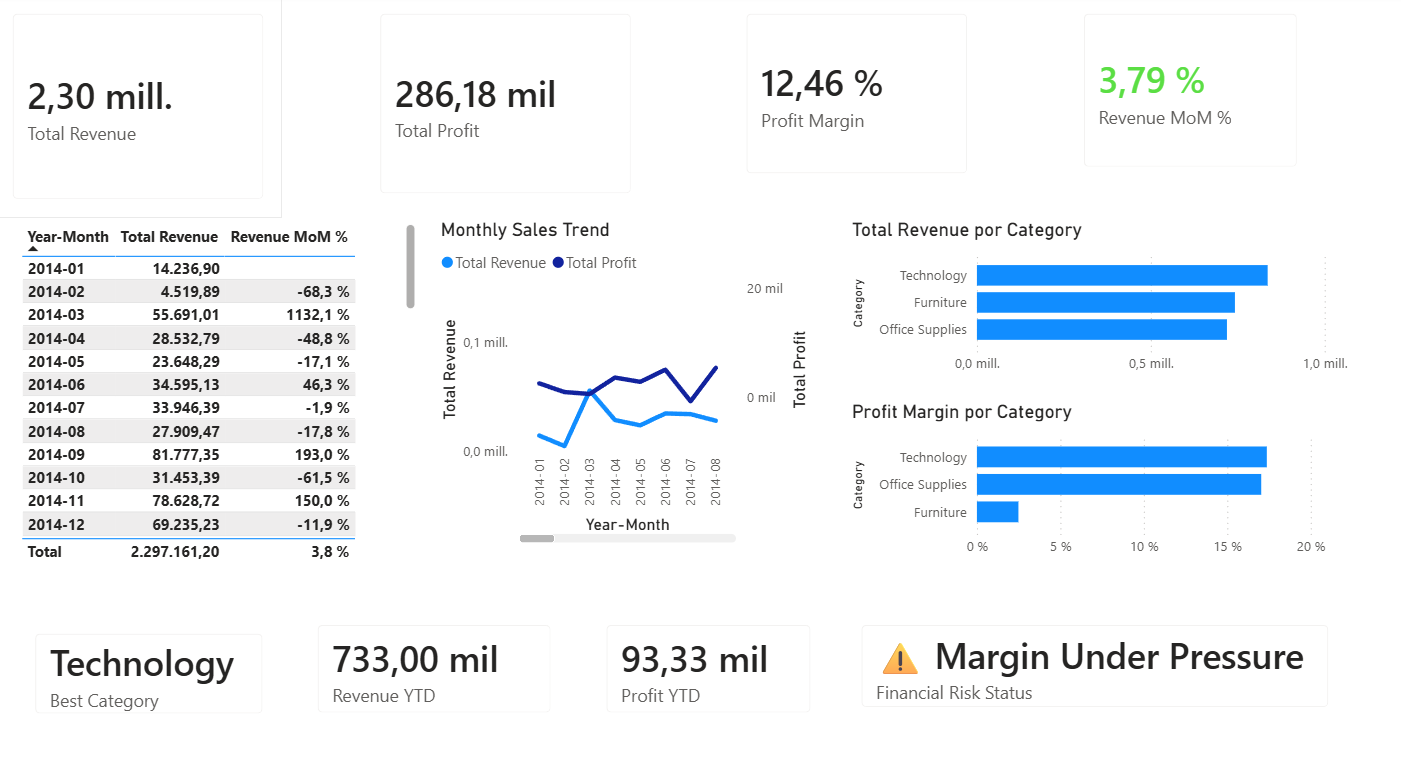

Layout of this report page (visuals, bound fields, positions):
{"tool":"powerbi","page":{"name":"Financial Performance Overview – 2017","canvas":[1280,720],"ordinal":0},"visuals":[{"type":"cardVisual","fields":{"Data":["Calendar.Total Revenue"]},"box":[0,0,260.5,201.8],"z":0},{"type":"cardVisual","fields":{"Data":["Calendar.Profit Margin"]},"box":[662,0,233.6,178.5],"z":1000},{"type":"cardVisual","fields":{"Data":["Calendar.Total Profit"]},"box":[331,0,260.5,196.9],"z":2000},{"type":"cardVisual","fields":{"Data":["Calendar.Revenue MoM %"]},"box":[966,0,226.2,172.4],"z":3000},{"type":"lineChart","title":"Monthly Sales Trend","fields":{"Category":["Calendar.Year-Month"],"Y":["Calendar.Total Revenue"],"Y2":["Calendar.Total Profit"]},"box":[397.4,201.8,341.2,297.1],"z":4000},{"type":"tableEx","fields":{"Values":["Calendar.Year-Month","Calendar.Total Revenue","Calendar.Revenue MoM %"]},"box":[19.6,201.8,365.6,314.3],"z":5000},{"type":"barChart","fields":{"Category":["Sales_Fact.Category"],"Y":["Calendar.Total Revenue"]},"box":[769.2,201.8,457.3,149.2],"z":6000},{"type":"barChart","fields":{"Category":["Sales_Fact.Category"],"Y":["Calendar.Profit Margin"]},"box":[769.2,365.6,437.8,150.4],"z":7000},{"type":"cardVisual","fields":{"Data":["Calendar.Best Category"]},"box":[20.8,558.8,239.7,106.4],"z":8000},{"type":"cardVisual","fields":{"Data":["Calendar.Revenue YTD"]},"box":[275.5,551.5,244.6,113.7],"z":9000},{"type":"cardVisual","fields":{"Data":["Calendar.Profit YTD"]},"box":[535.2,551.5,218.9,113.7],"z":10000},{"type":"cardVisual","fields":{"Data":["Calendar.Financial Risk Status"]},"box":[765.5,551.5,455,108],"z":11000}]}

Visuals, with their boxes in screenshot pixels (x1, y1, x2, y2), scaled from the page's 1280x720 canvas onto the 1401x772 screenshot:
cardVisual - Calendar.Total Revenue: pyautogui.locateOnScreen(0, 0, 285, 216)
cardVisual - Calendar.Profit Margin: pyautogui.locateOnScreen(725, 0, 980, 191)
cardVisual - Calendar.Total Profit: pyautogui.locateOnScreen(362, 0, 647, 211)
cardVisual - Calendar.Revenue MoM %: pyautogui.locateOnScreen(1057, 0, 1305, 185)
"Monthly Sales Trend" lineChart: pyautogui.locateOnScreen(435, 216, 808, 535)
tableEx - Calendar.Year-Month x Calendar.Total Revenue: pyautogui.locateOnScreen(21, 216, 422, 553)
barChart - Sales_Fact.Category x Calendar.Total Revenue: pyautogui.locateOnScreen(842, 216, 1342, 376)
barChart - Sales_Fact.Category x Calendar.Profit Margin: pyautogui.locateOnScreen(842, 392, 1321, 553)
cardVisual - Calendar.Best Category: pyautogui.locateOnScreen(23, 599, 285, 713)
cardVisual - Calendar.Revenue YTD: pyautogui.locateOnScreen(302, 591, 569, 713)
cardVisual - Calendar.Profit YTD: pyautogui.locateOnScreen(586, 591, 825, 713)
cardVisual - Calendar.Financial Risk Status: pyautogui.locateOnScreen(838, 591, 1336, 707)
